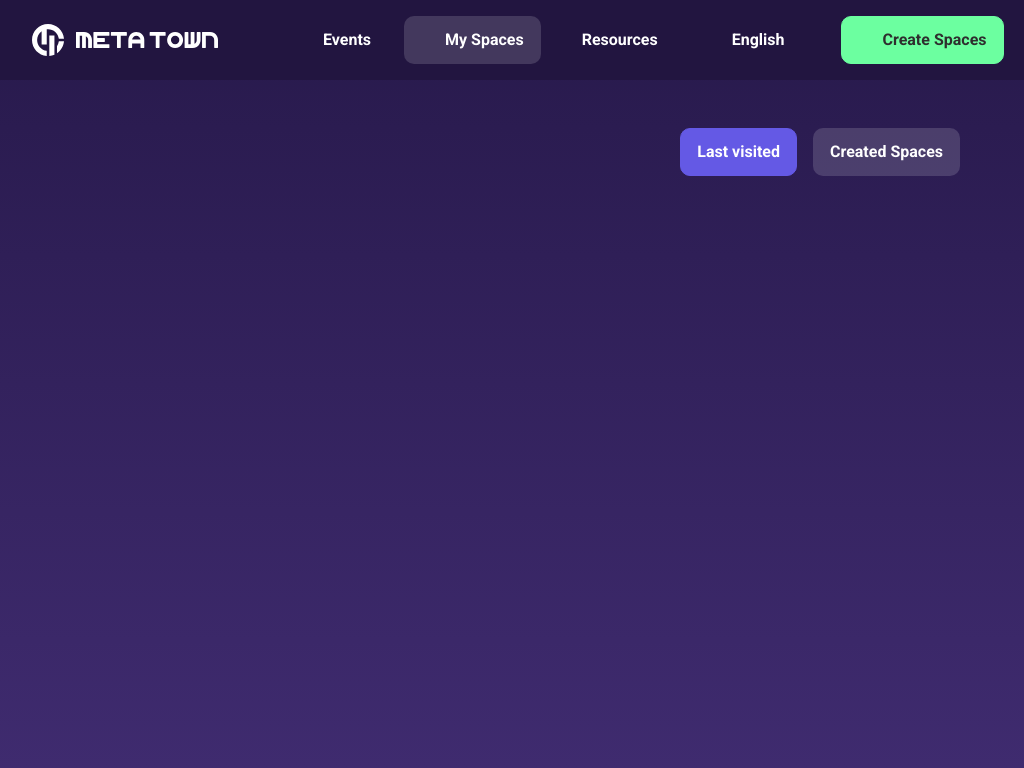
Test: Home › shows owned spaces when Created Spaces button is clicked
Click the button "Created Spaces".
click(886, 152)  # box [813,128,960,176]
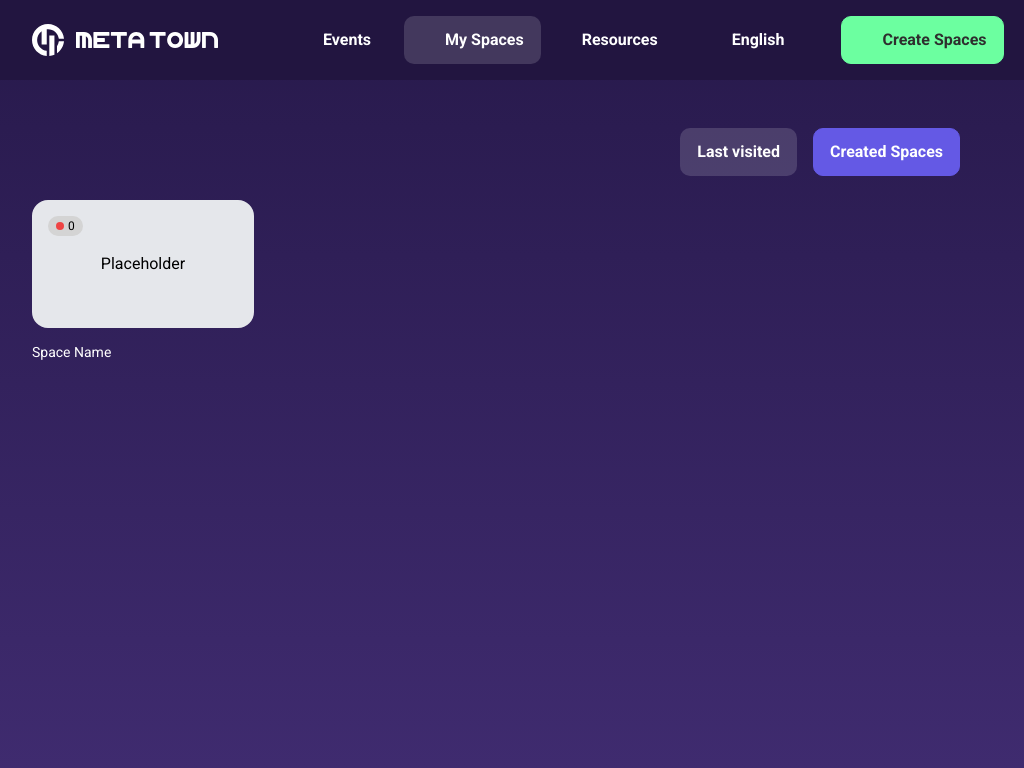
Expected: the element named "Owned spaces" is shown, [32,200,254,372]
